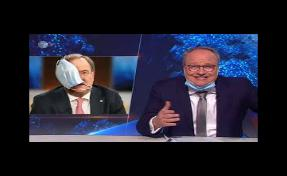mask_weared_incorrect: (59, 61, 95, 93), (187, 56, 217, 92)
